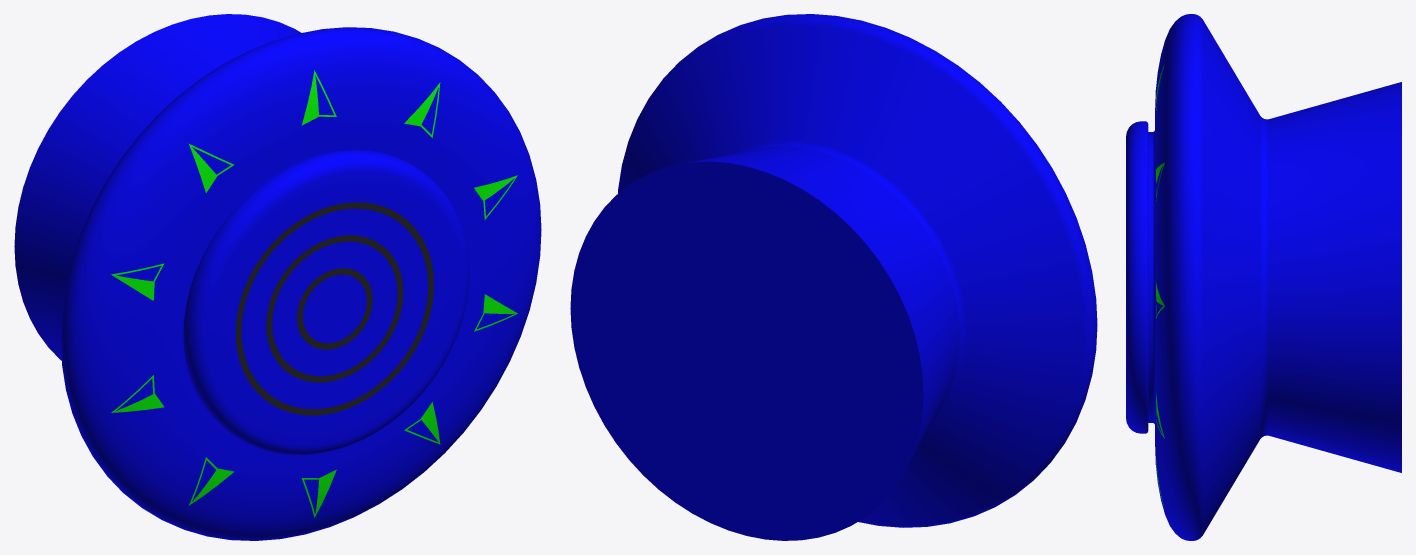
Rendered from bumper_blue.glb.
3 views of the same model, side by side, from view 1: azimuth 30°, elevation 25°; view 2: azimuth 150°, elevation 25°; view 3: azimuth 270°, elevation 25° (orthographic). The views are drawn at different scales.
Parts seen in each view (by area): view 1: BumperBlue; view 2: BumperBlue; view 3: BumperBlue.
Boxes of the visible parts, x1,y1,x2,y2 form: BumperBlue: (14,14,541,540); BumperBlue: (570,14,1097,540); BumperBlue: (1126,14,1401,540).
Size of the model in its own units: 0.9946 by 0.9946 by 0.5208.
